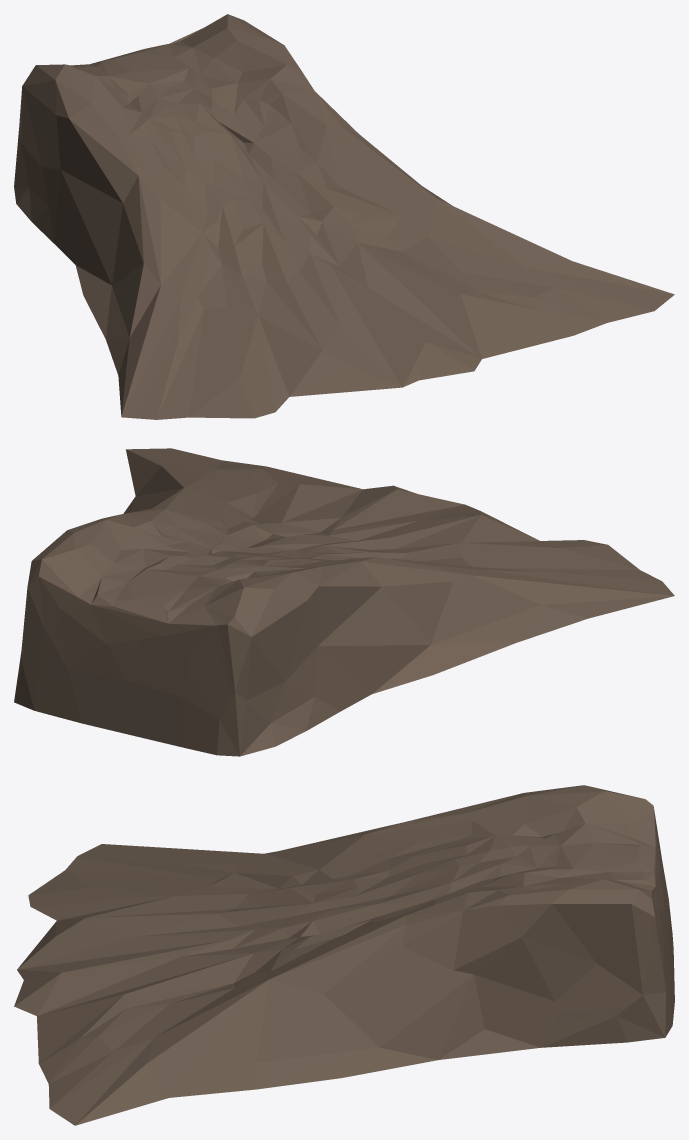
Rendered from ramp.glb.
3 views of the same model, one above another, from view 1: azimuth 30°, elevation 25°; view 2: azimuth 150°, elevation 25°; view 3: azimuth 270°, elevation 25° (orthographic). The views are drawn at different scales.
Parts seen in each view (by area): view 1: SM_Env_Road_Ramp_01; view 2: SM_Env_Road_Ramp_01; view 3: SM_Env_Road_Ramp_01.
Part boxes in pixels (bbox=[...]): SM_Env_Road_Ramp_01: bbox=[14, 14, 674, 419]; SM_Env_Road_Ramp_01: bbox=[14, 448, 674, 756]; SM_Env_Road_Ramp_01: bbox=[14, 785, 674, 1125].
Bounding box in the file's own units: 23.52 × 5.73 × 23.31.
Materials: 1 (1 with a texture image).
